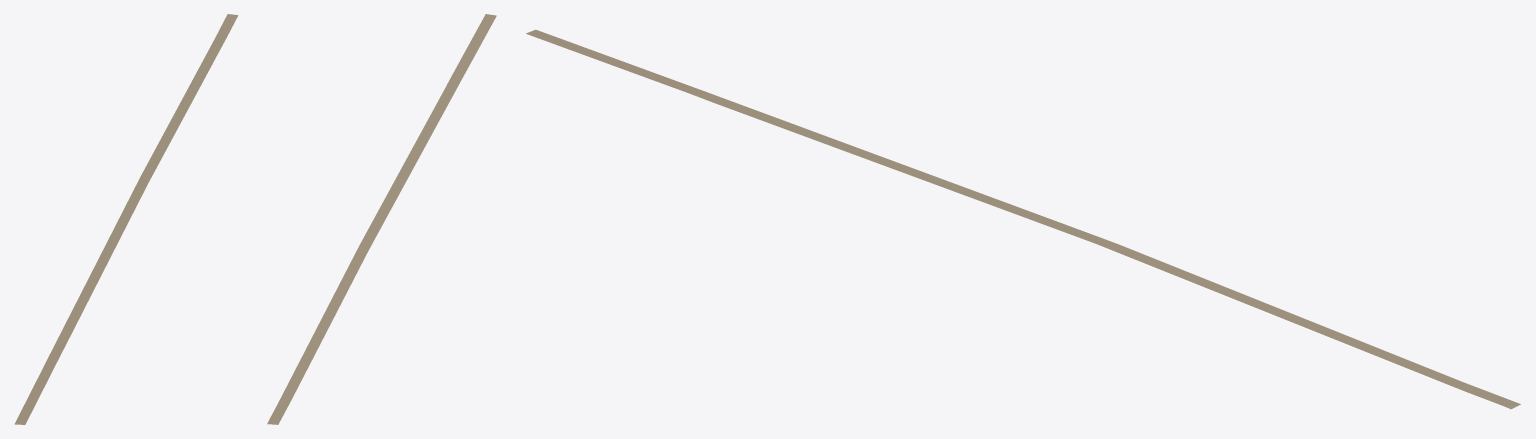
File: farm_6_-4_track.glb
3 renders of one model, left to right at view 1: azimuth 30°, elevation 25°; view 2: azimuth 210°, elevation 25°; view 3: azimuth 270°, elevation 25°, orthographic. The views are drawn at different scales.
Visible parts, largest first — view 1: geometry_0; view 2: geometry_0; view 3: geometry_0.
Part boxes in pixels (x1=…): geometry_0: x1=14, y1=14, x2=238, y2=424; geometry_0: x1=267, y1=14, x2=496, y2=424; geometry_0: x1=526, y1=29, x2=1520, y2=409.
Size of the model in its own units: 196 by 2.78 by 213.
